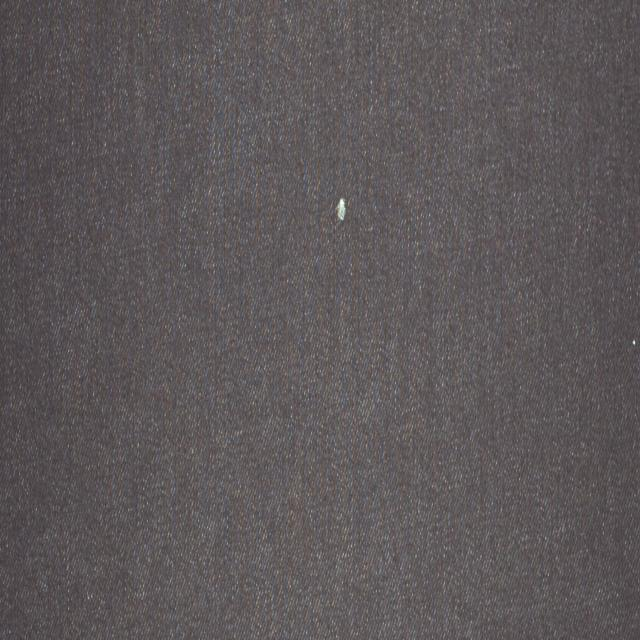Knot: (337, 198, 347, 222)
